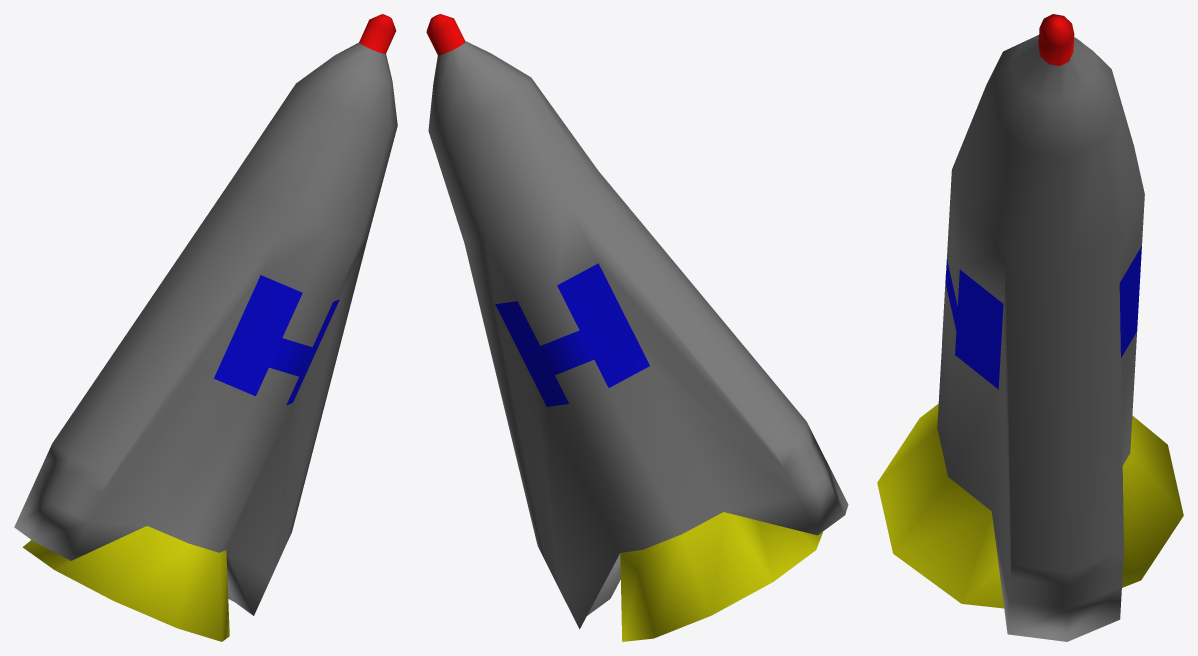
File: MS_HomingShot.fbx
The picture shows the model from 3 angles, left to right: view 1: azimuth 30°, elevation 25°; view 2: azimuth 150°, elevation 25°; view 3: azimuth 270°, elevation 25°; orthographic projection. The views are drawn at different scales.
Visible parts, largest first — view 1: pCylinder1; view 2: pCylinder1; view 3: pCylinder1.
Part boxes in pixels (x1,y1,x2,y2): pCylinder1: (14, 14, 397, 641); pCylinder1: (426, 14, 848, 641); pCylinder1: (877, 14, 1183, 641).
Size of the model in its own units: 11.52 by 15.85 by 6.16.
